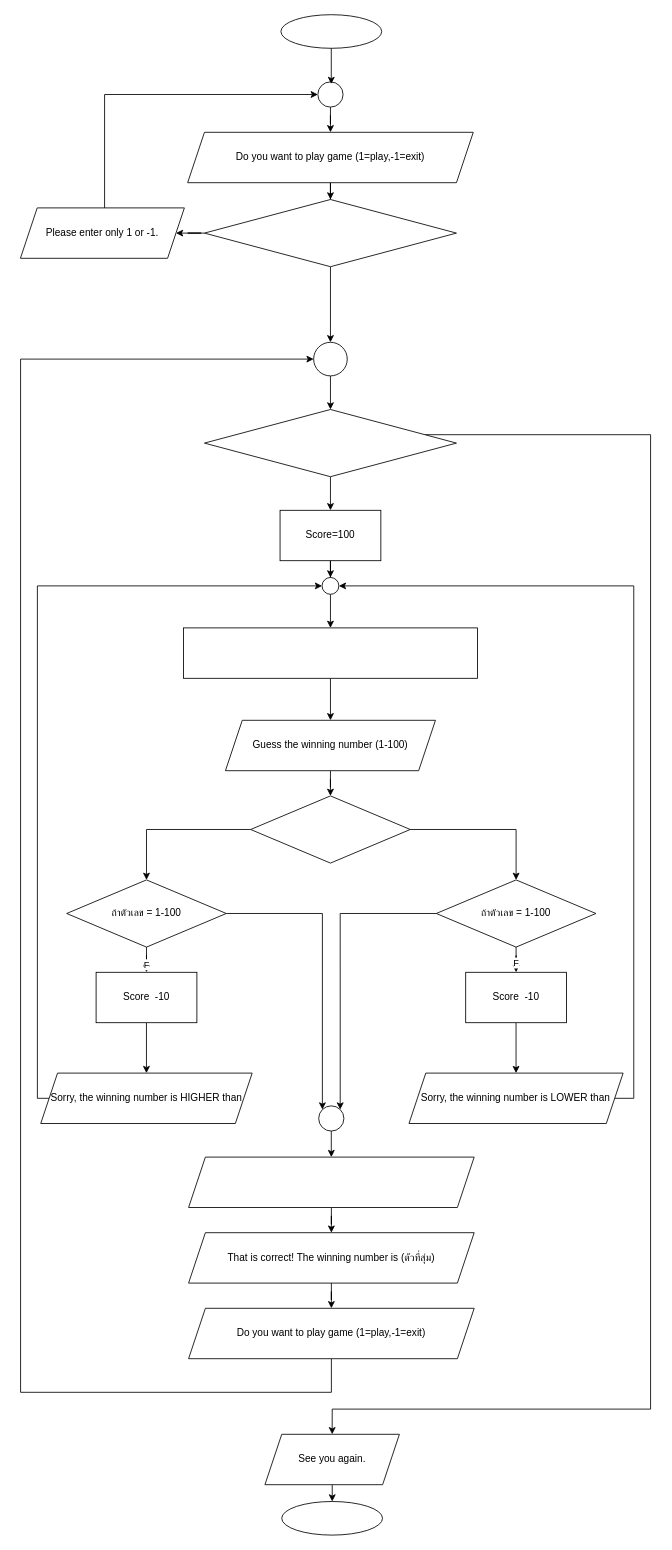
Some shapes in this 672 by 1550 pixel diagram are drawn without their labels. The shapes that lost their labels are listed below. From the top down, each one's centre as x and y in pixels, then its label:
the point at 331,31: start
the point at 330,233: ตรวจสอบว่าเป็นตัวหนังสือหรือตัวเลข
the point at 330,443: 1=play , -1=exit
the point at 330,652: Guess the winning number (1-100) :
the point at 330,829: ตรวจสอบตัวเลข
the point at 331,1182: Score this game:
the point at 332,1518: end
